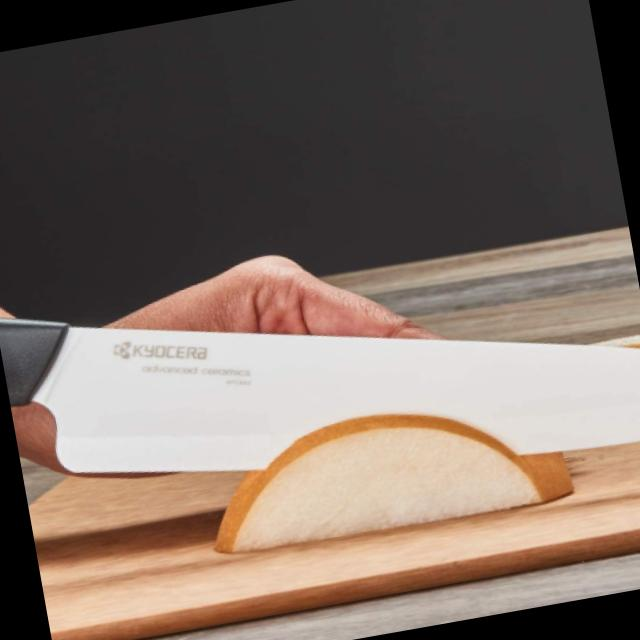knife: (0, 202, 640, 549)
